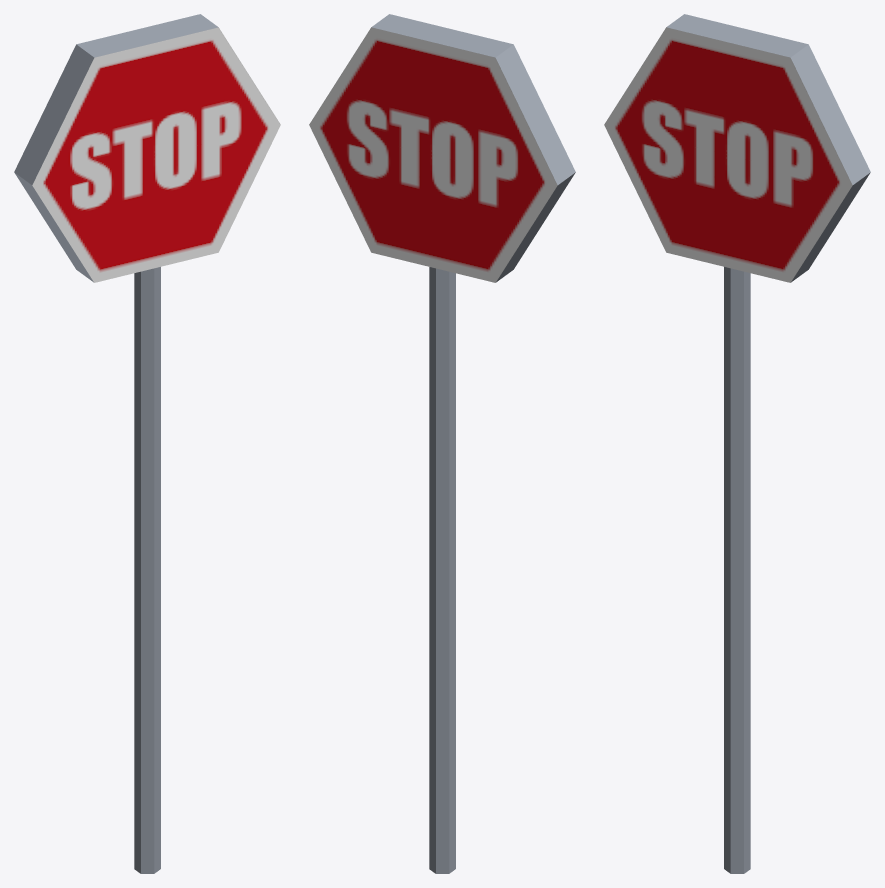
File: Environment_Objects_Road_Sign_01.fbx
The picture shows the model from 3 angles, left to right: view 1: azimuth 30°, elevation 25°; view 2: azimuth 150°, elevation 25°; view 3: azimuth 330°, elevation 25°; orthographic projection.
Visible parts, largest first — view 1: Environment_Objects_Road_Sign_01; view 2: Environment_Objects_Road_Sign_01; view 3: Environment_Objects_Road_Sign_01.
Boxes of the visible parts, left/top/right/bottom form: Environment_Objects_Road_Sign_01: left=14, top=14, right=280, bottom=873; Environment_Objects_Road_Sign_01: left=309, top=14, right=575, bottom=873; Environment_Objects_Road_Sign_01: left=604, top=14, right=870, bottom=873.
Size of the model in its own units: 84.12 by 269 by 10.66.
